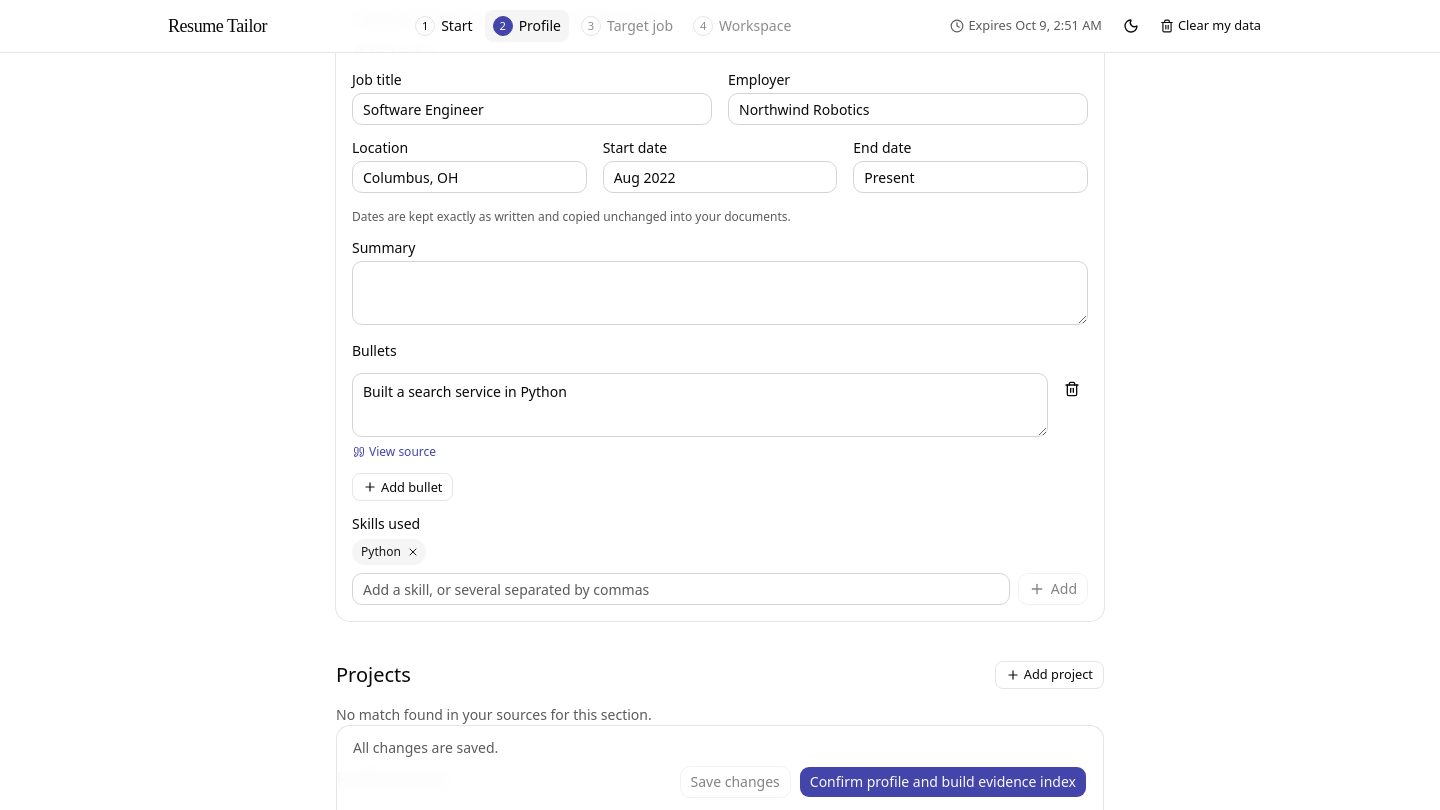
Test: ProfilePage records › marks an item as edited as soon as the user changes it
The width and height of the screenshot is (1440, 810).
(page scrolled)
Expected: the text "Edited by you" is not shown
Step 1. Type " and Go" into the text box named "Bullet 1 of" → (700, 405), box left=352, top=373, right=1048, bottom=437
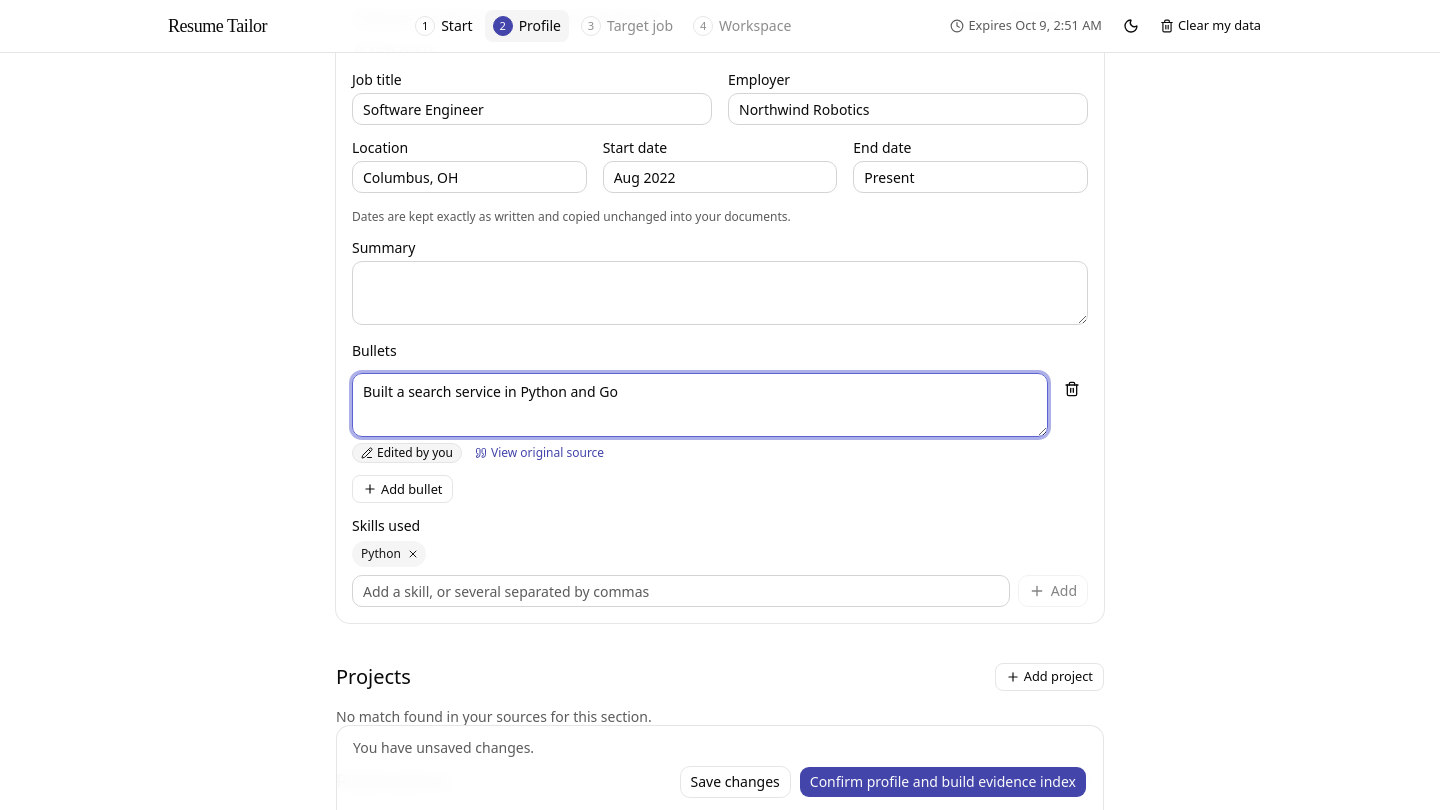
Result: the text "Edited by you" is shown at left=352, top=443, right=462, bottom=463
Result: the text "You have unsaved changes." is shown at left=353, top=738, right=534, bottom=757
